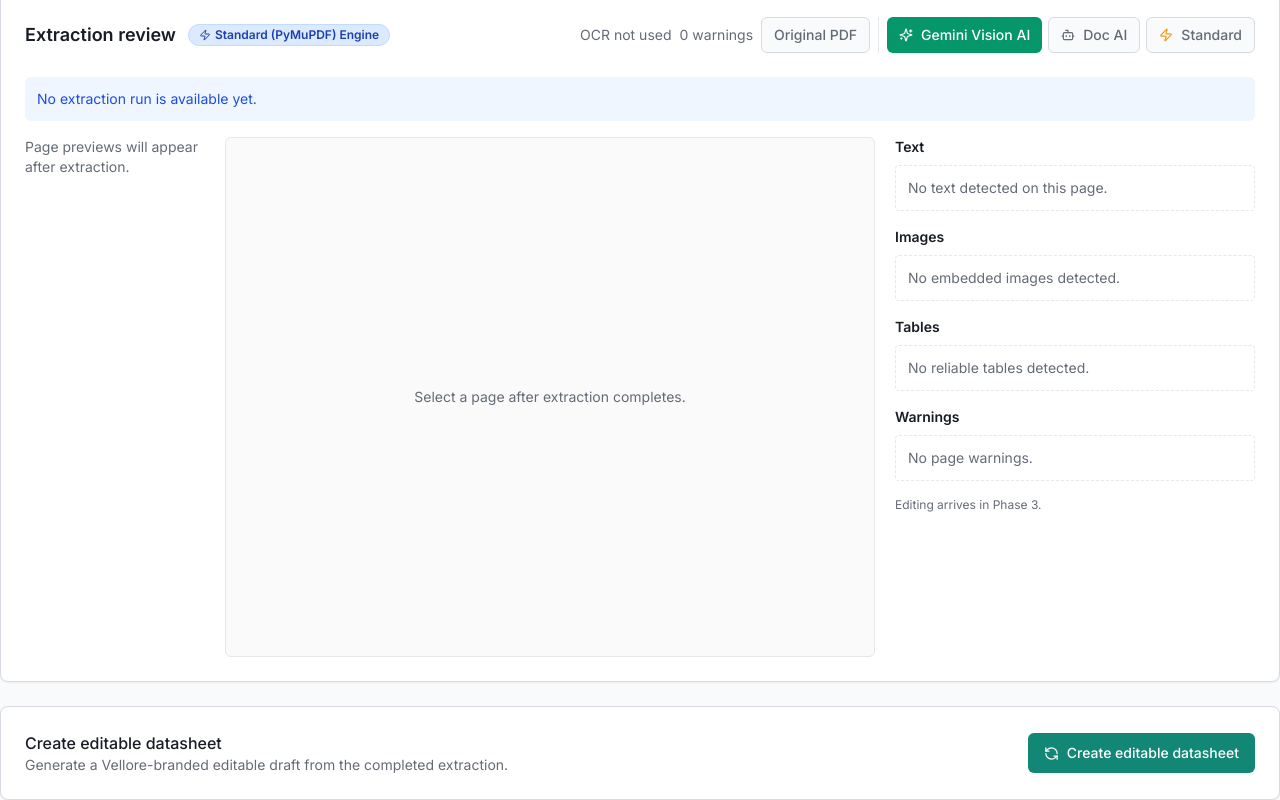
Test: DatasheetComposer › renders a Word-like editor workspace and keeps advanced layout controls collapsed
(page scrolled)
Click the button "Create editable datasheet". click: (1141,753)
box: top-left (1028, 733), bottom-right (1255, 773)
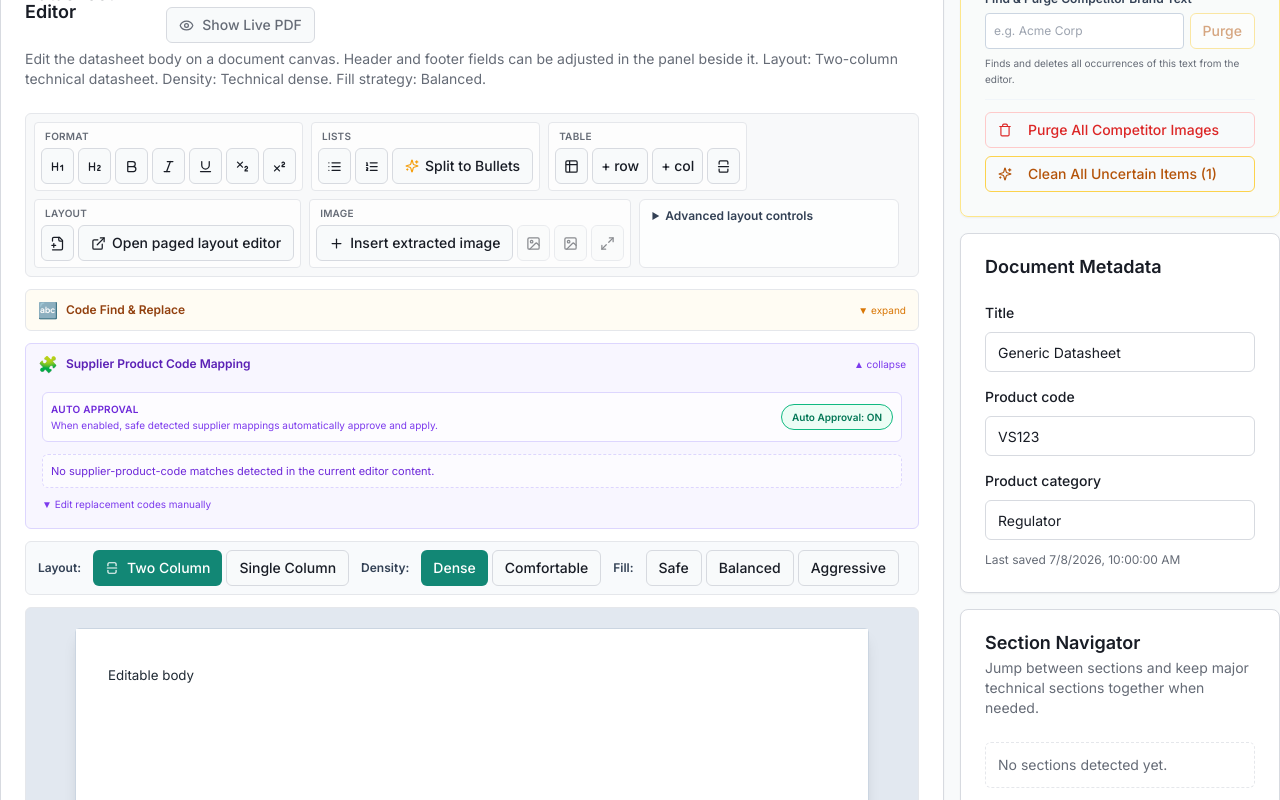
Now the text "Format" is shown, box top-left (45, 130), bottom-right (89, 142)
Now the text "Lists" is shown, box top-left (322, 130), bottom-right (351, 142)
Now the text "Advanced layout controls" is shown, box top-left (665, 208), bottom-right (813, 223)
